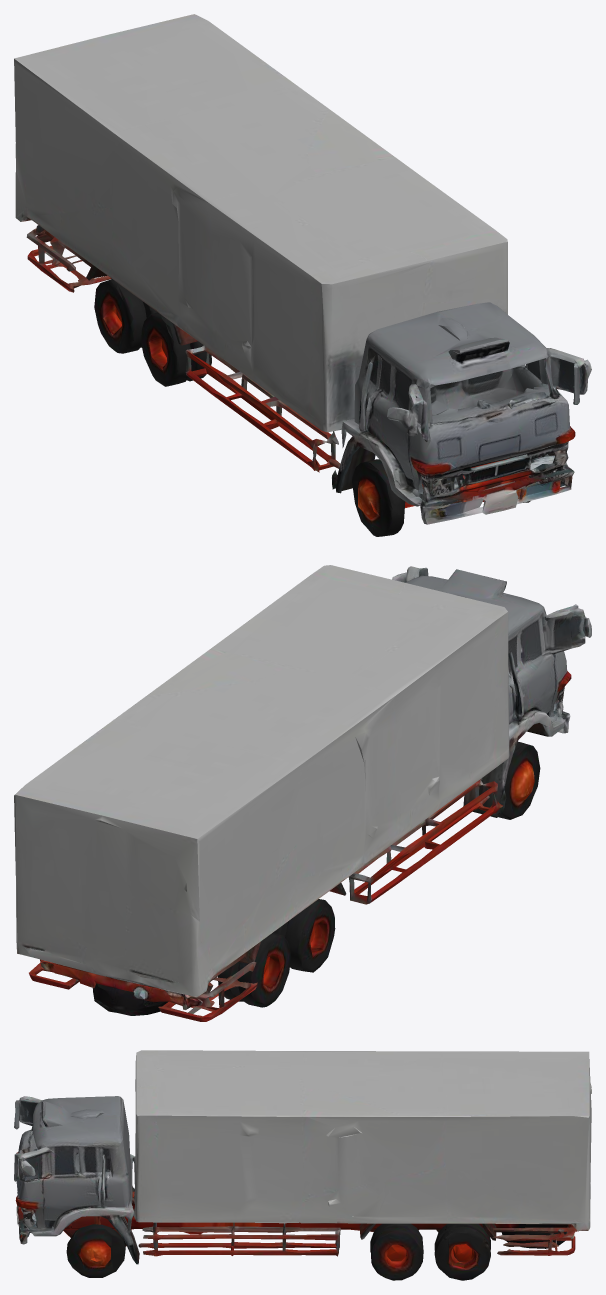
File: truck.a173d68fc7.glb
3 renders of one model, top to bottom at view 1: azimuth 30°, elevation 25°; view 2: azimuth 150°, elevation 25°; view 3: azimuth 270°, elevation 25°, orthographic. The views are drawn at different scales.
Parts seen in each view (by area): view 1: truckTexture; view 2: truckTexture; view 3: truckTexture.
Boxes of the visible parts, x1,y1,x2,y2 form: truckTexture: [14, 14, 591, 536]; truckTexture: [14, 565, 591, 1021]; truckTexture: [14, 1050, 591, 1280].
Size of the model in its own units: 2.18 by 2.43 by 7.48.
1 material, 1 textured.
